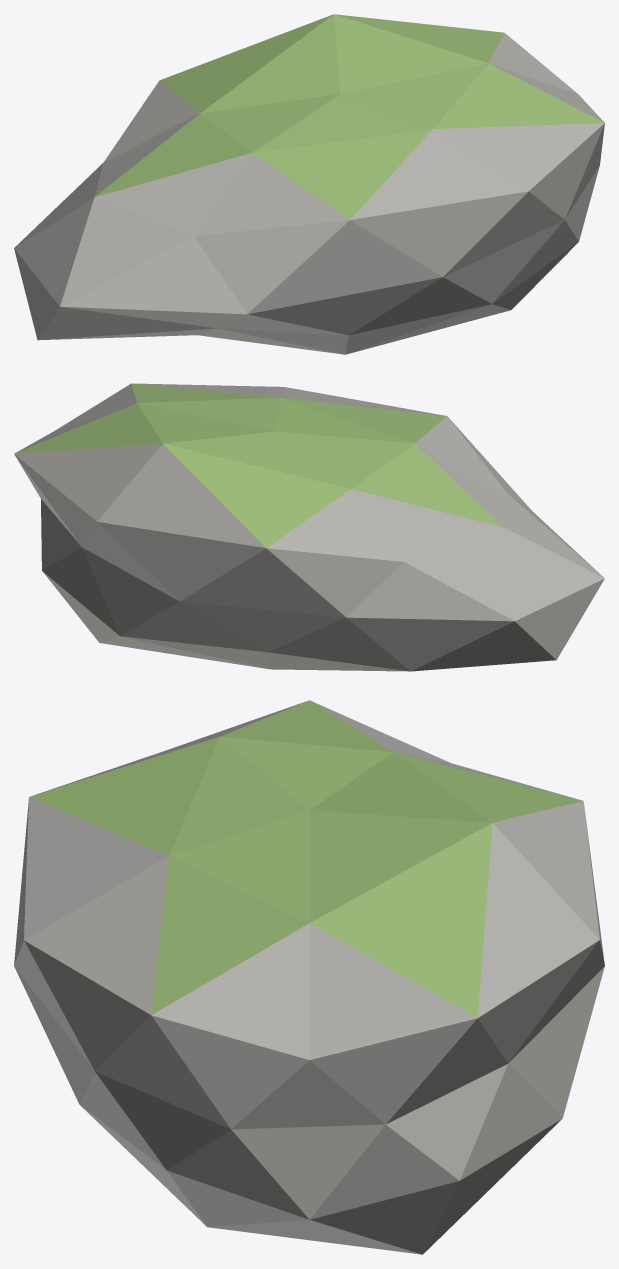
File: Rock_2.fbx
3 renders of one model, top to bottom at view 1: azimuth 30°, elevation 25°; view 2: azimuth 150°, elevation 25°; view 3: azimuth 270°, elevation 25°, orthographic. The views are drawn at different scales.
Parts seen in each view (by area): view 1: Rock_2; view 2: Rock_2; view 3: Rock_2.
Part boxes in pixels (x1,y1,x2,y2): Rock_2: [14, 14, 604, 354]; Rock_2: [14, 383, 604, 671]; Rock_2: [14, 700, 604, 1254].
Size of the model in its own units: 3.1 by 1.36 by 1.98.
